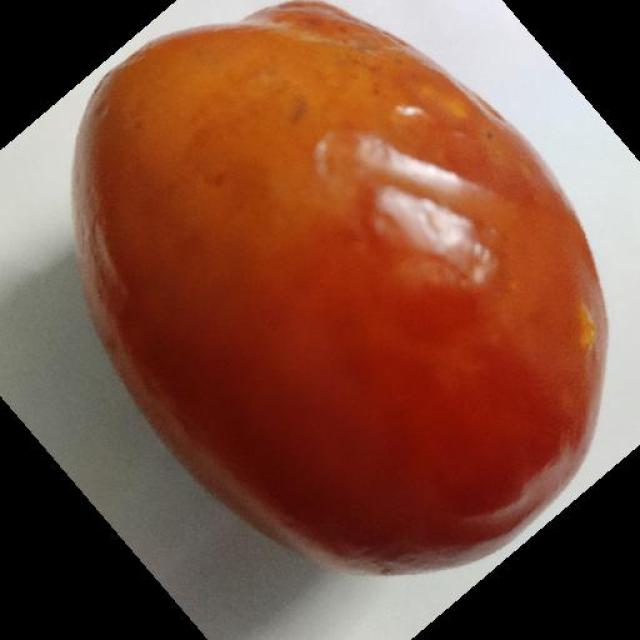Stale_tomato: (57, 9, 610, 558)
